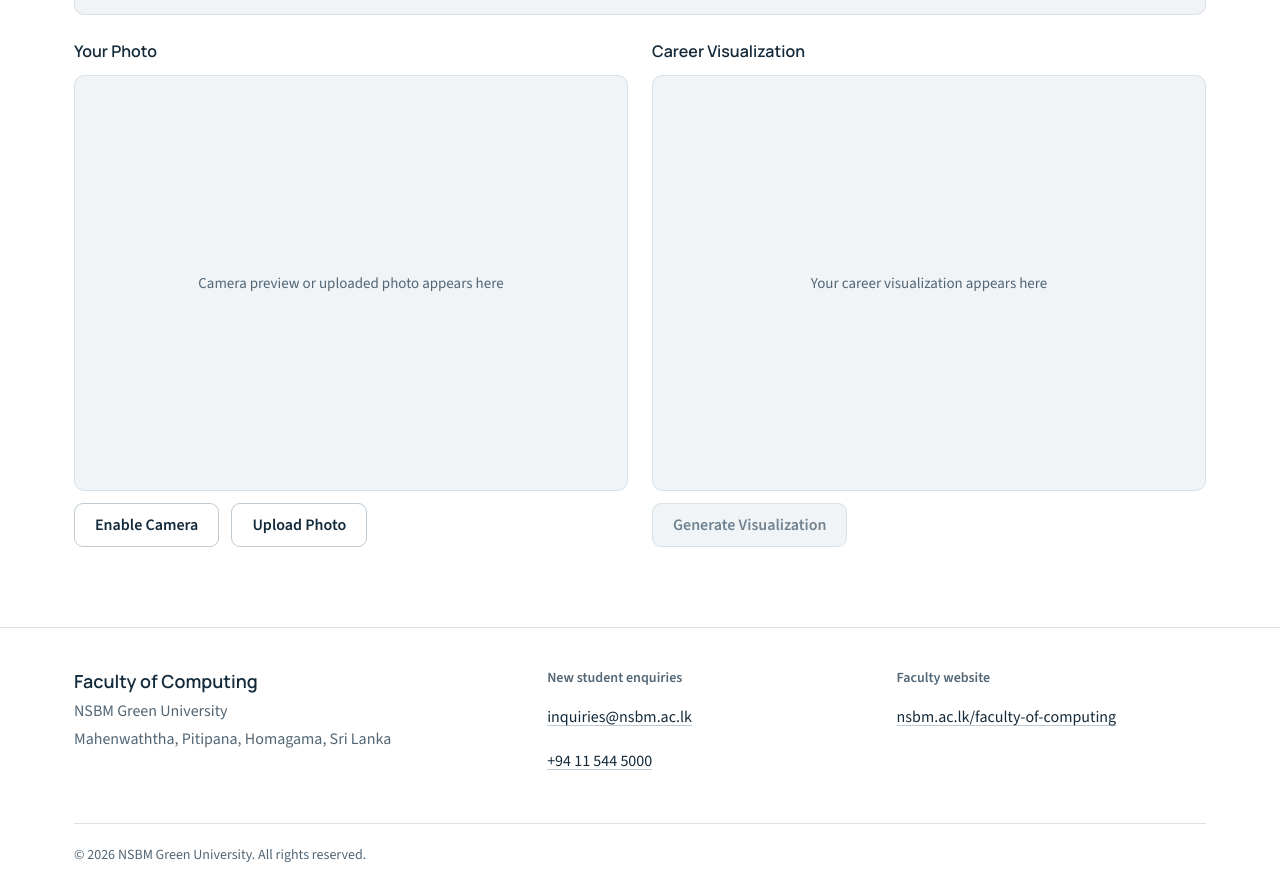
career visualization › explains a blocked camera in plain words
(page scrolled)
Click the button "Enable Camera" at [147, 525], box [74,503,219,547]
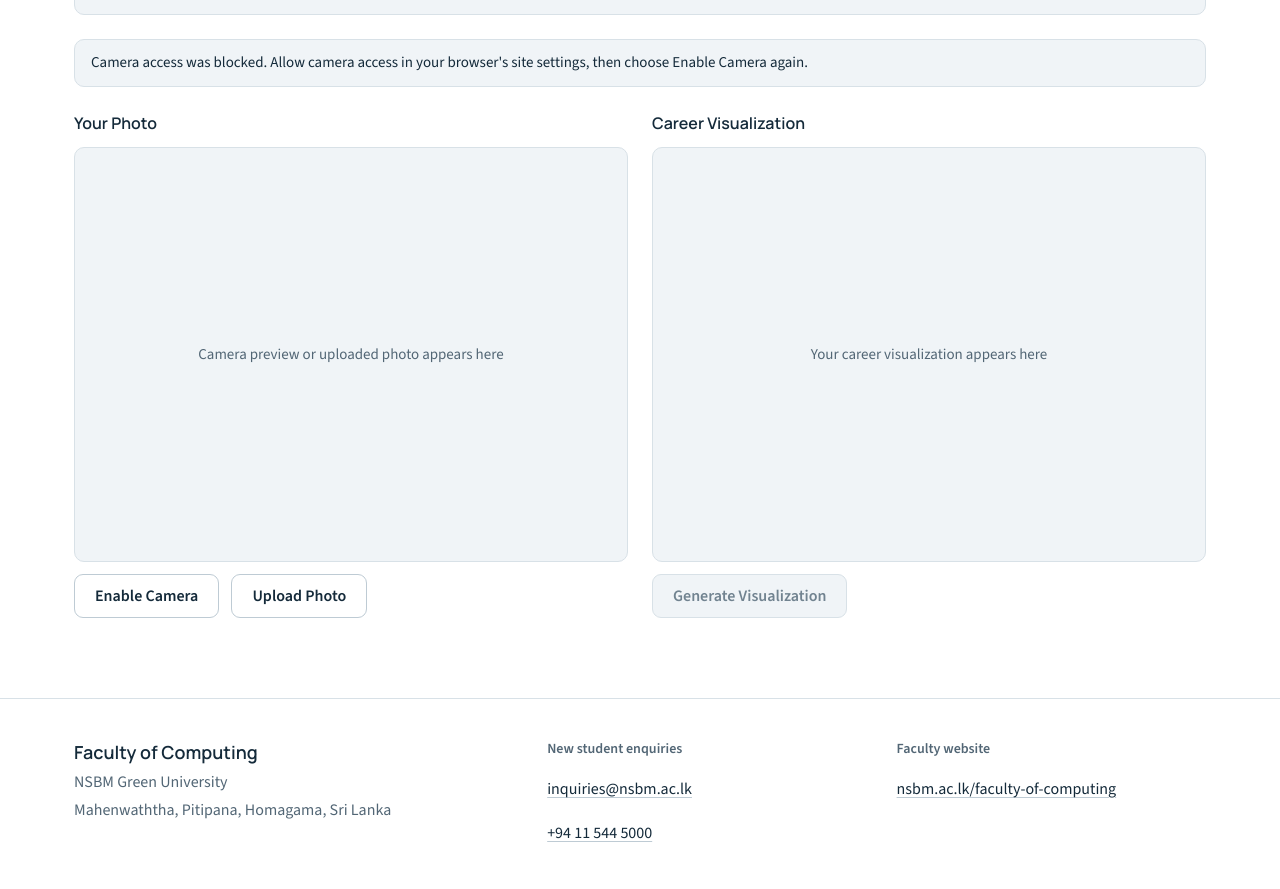
Expected: the button "Enable Camera" is enabled, [74,574,219,618]
Expected: the text "Camera access was blocked" is shown, [91,52,808,72]
